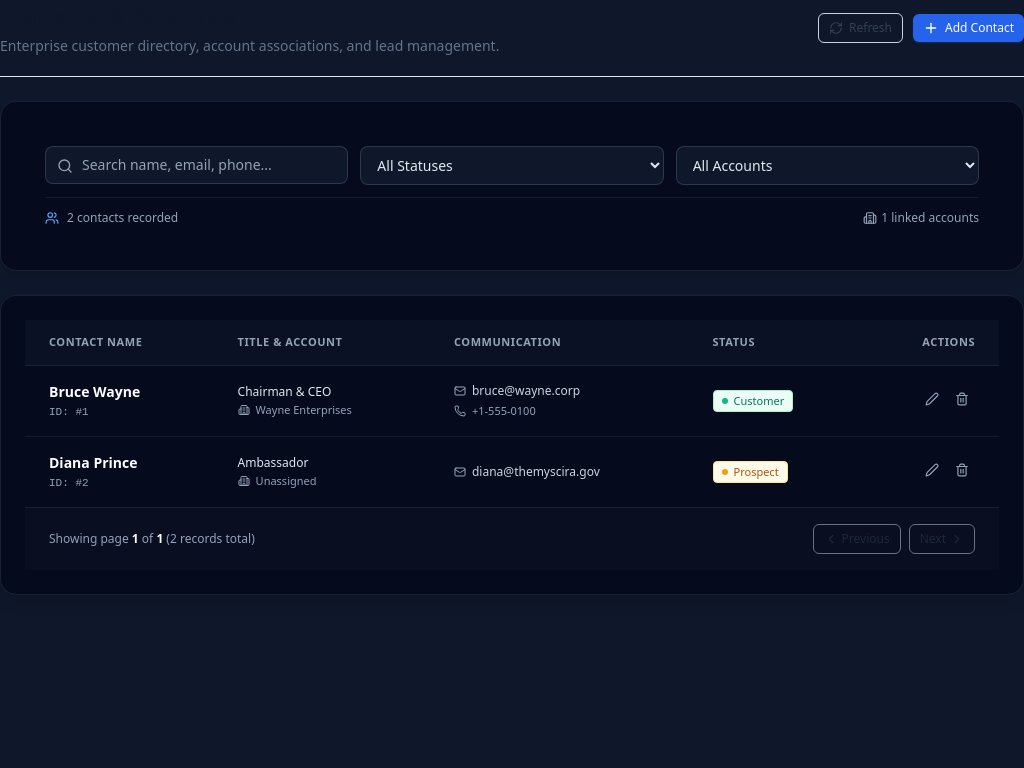
Scenario: ContactsPage Enterprise CRM Suite › 9. Successfully creates new contact and refreshes table
Click the button "Add Contact" at (968, 28), box x1=913 y1=14 x2=1023 y2=42
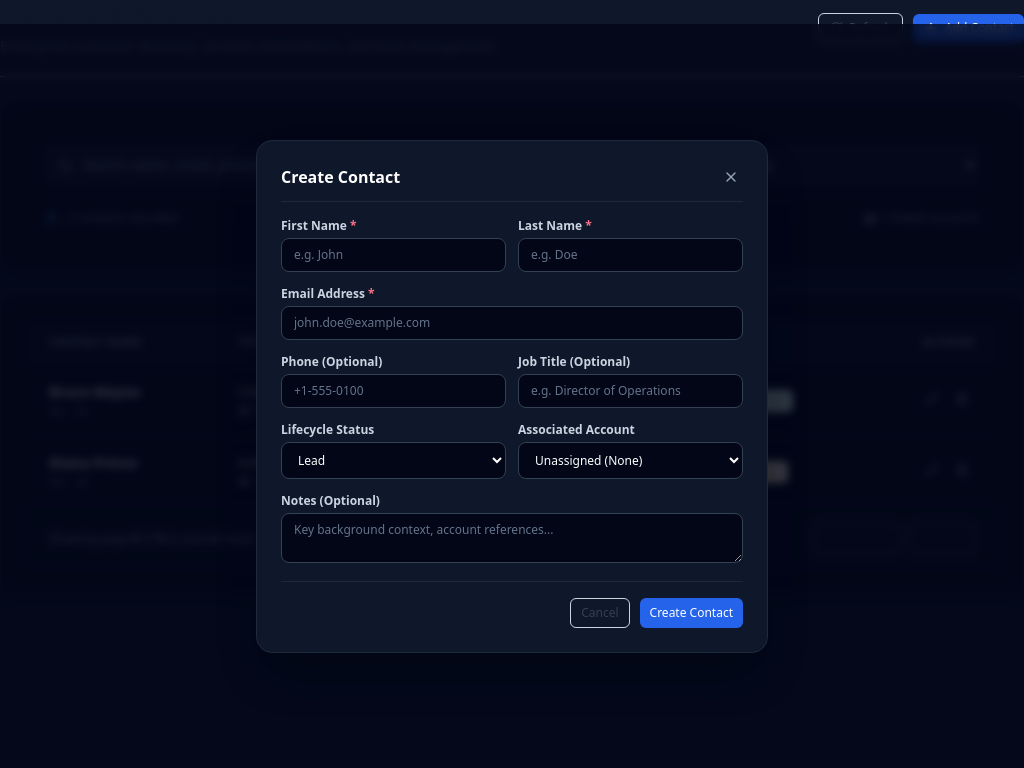
Type "Clark" into the field labelled "First Name *" at (394, 254), box x1=281 y1=238 x2=506 y2=272
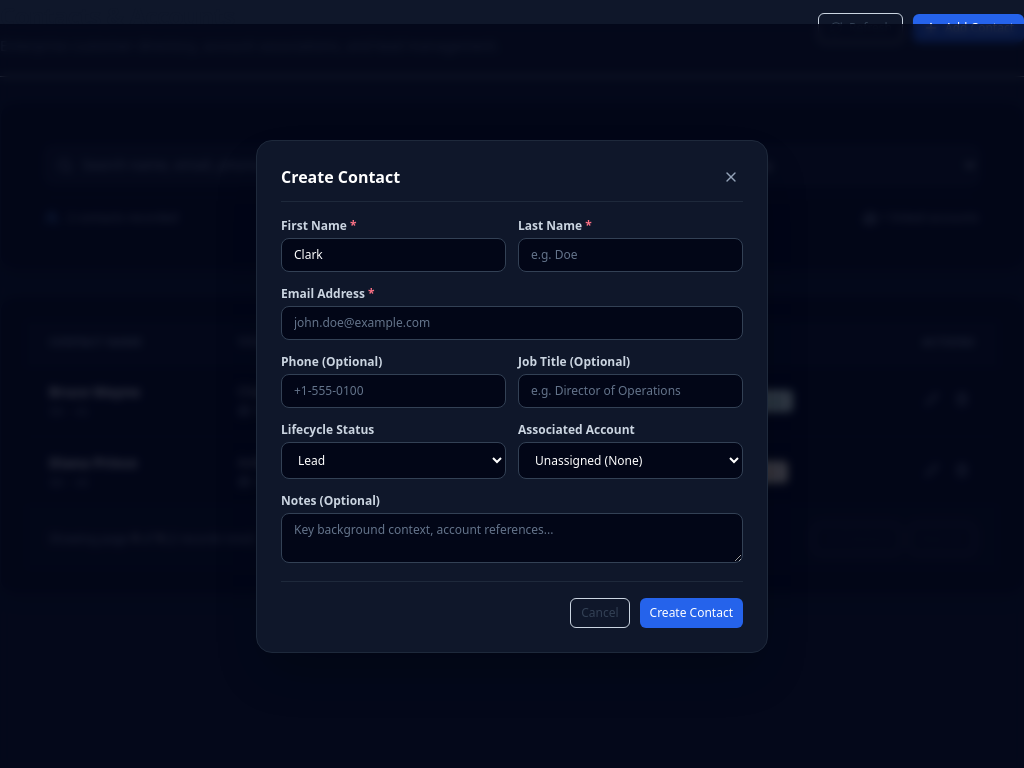
Type "Kent" into the field labelled "Last Name *" at (630, 254), box x1=518 y1=238 x2=743 y2=272
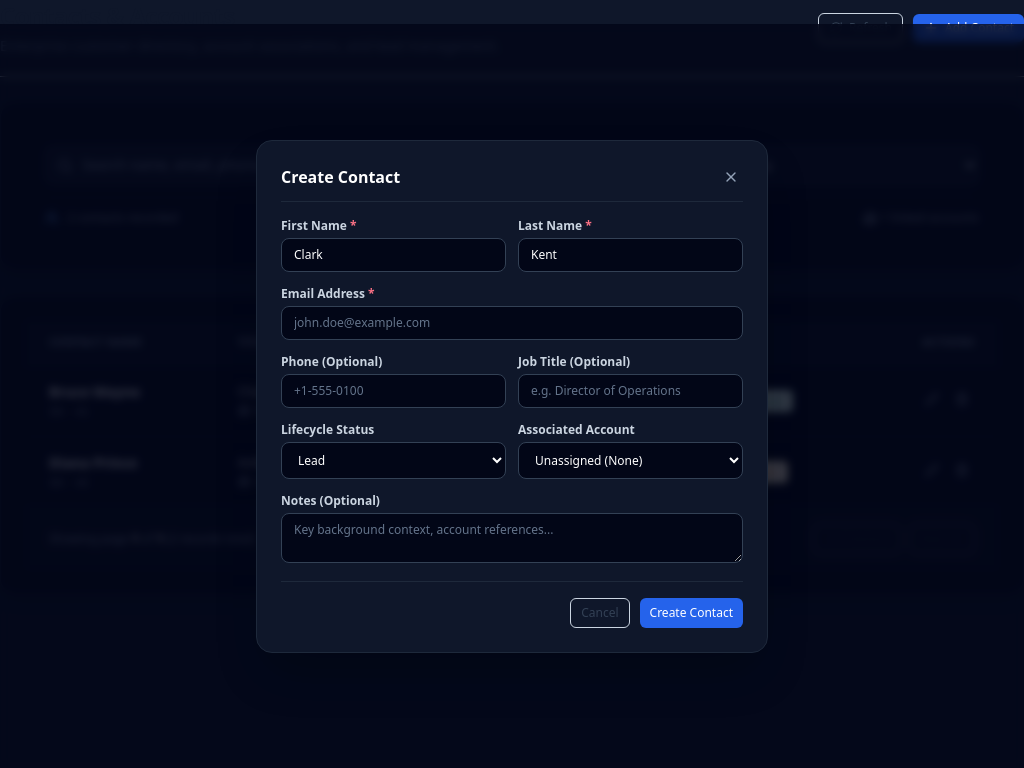
Type "clark@dailyplanet.com" into the field labelled "Email Address *" at (512, 322), box x1=281 y1=306 x2=743 y2=340
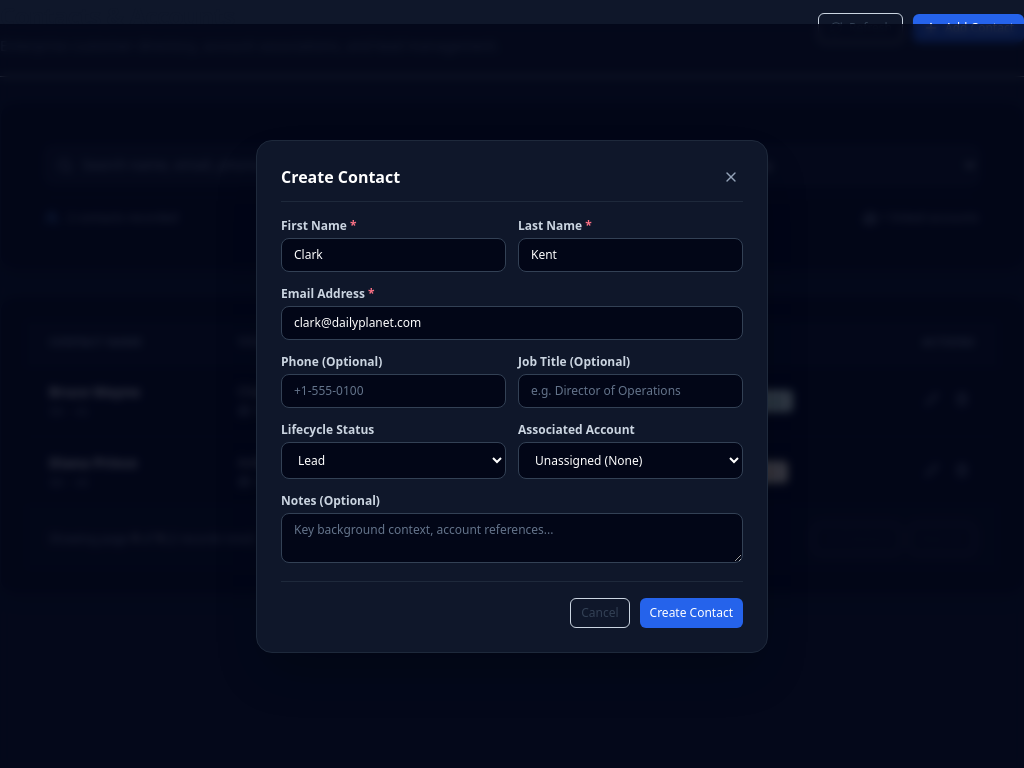
Click the button "Create Contact" at (691, 612), box x1=640 y1=598 x2=743 y2=628
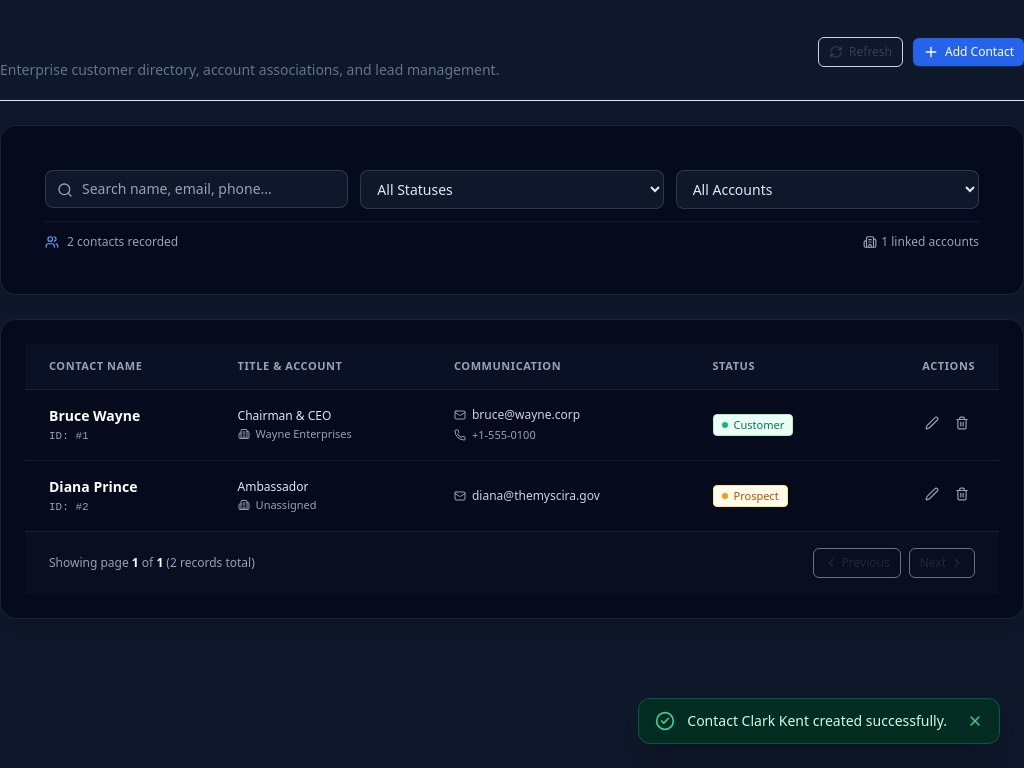
Expected: the dialog is gone
